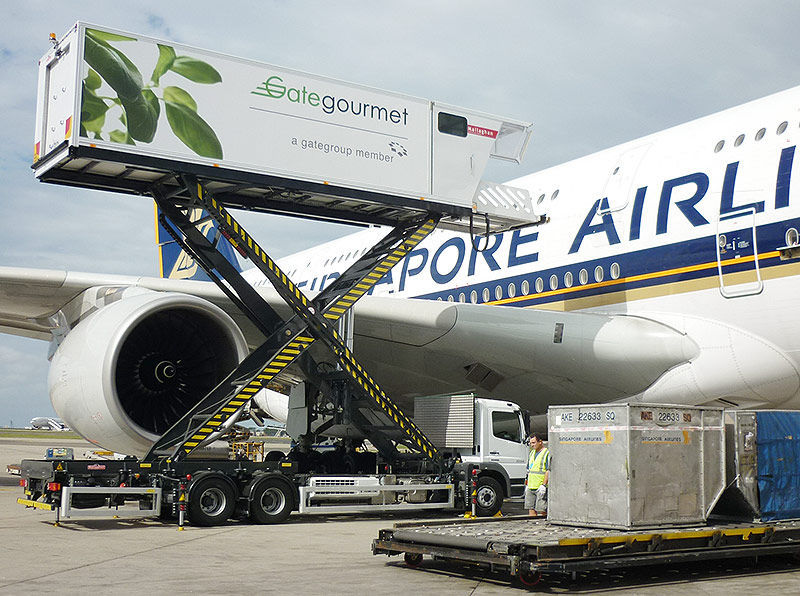Catering truck: (29, 9, 539, 527)
